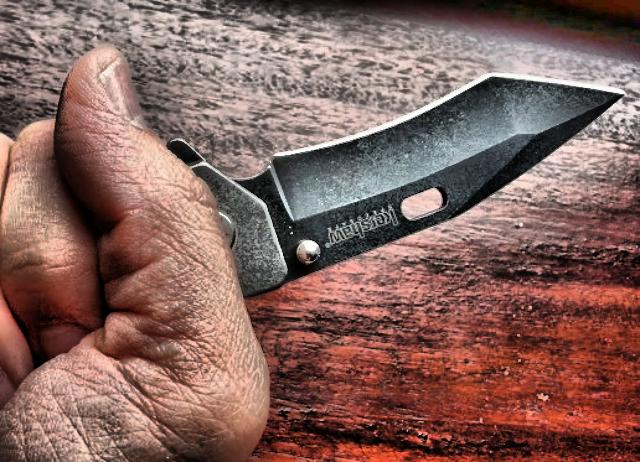knife: (0, 38, 628, 314)
